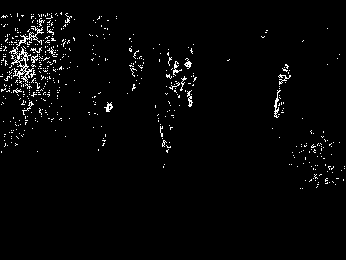person: (156, 99, 176, 156), (163, 55, 181, 101), (274, 63, 288, 119), (126, 47, 144, 90), (182, 59, 197, 108)
